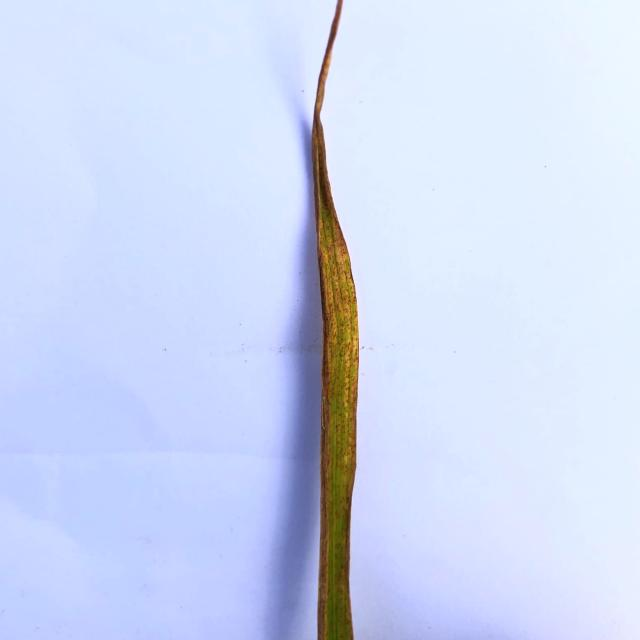tungro: (310, 188, 359, 502), (310, 0, 346, 117)
